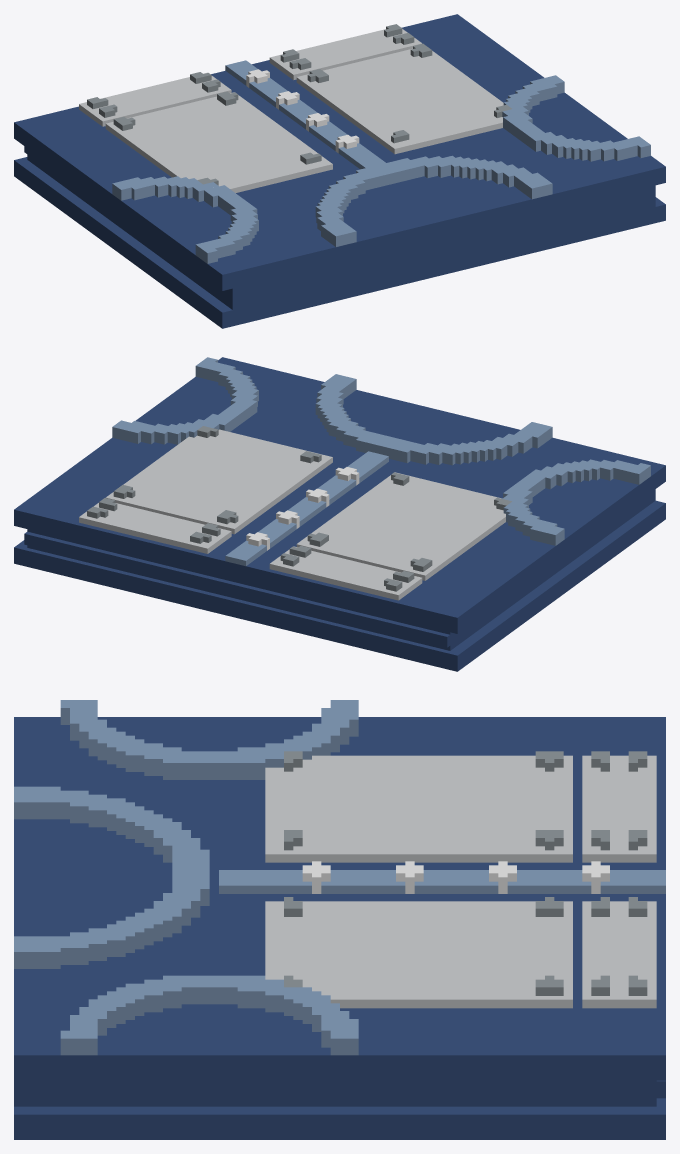
Rendered from vest_jean_mod.glb.
The picture shows the model from 3 angles, top to bottom: view 1: azimuth 30°, elevation 25°; view 2: azimuth 150°, elevation 25°; view 3: azimuth 270°, elevation 25°; orthographic projection. The views are drawn at different scales.
Visible parts, largest first — view 1: vest_jean_mod:compound; view 2: vest_jean_mod:compound; view 3: vest_jean_mod:compound.
Boxes of the visible parts, box(x1,y1,x2,y2) form: vest_jean_mod:compound: box(14, 14, 665, 328); vest_jean_mod:compound: box(14, 357, 665, 671); vest_jean_mod:compound: box(14, 700, 665, 1139).
Bounding box in the file's own units: 0.344 × 0.048 × 0.28.
